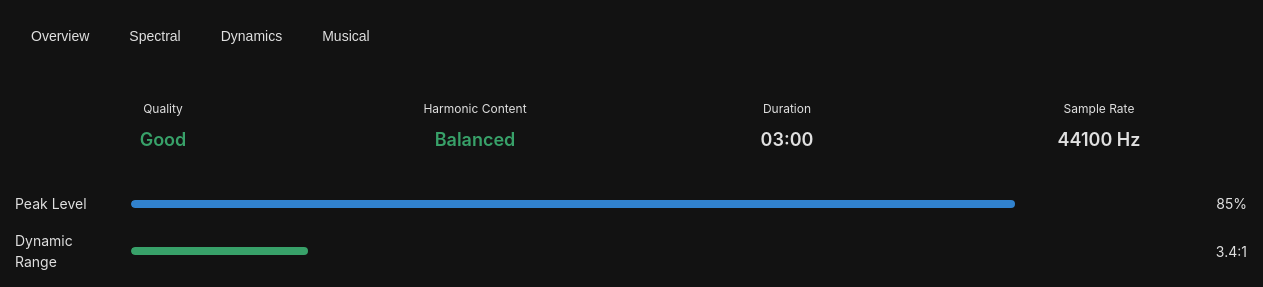
Test: AudioAnalysisDisplay Component › switches to dynamics tab when clicked
Click the button "Dynamics": (251, 36) [205,16,298,56]
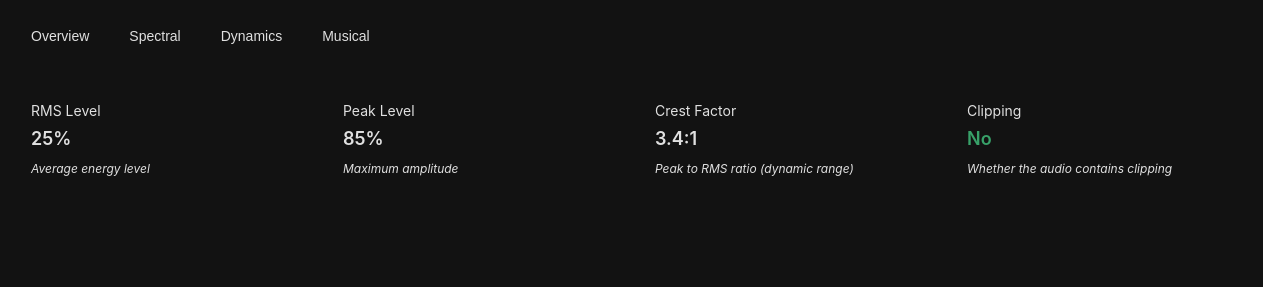
Expected: the text "RMS Level" is shown, [31,102,100,119]
Expected: the text "Crest Factor" is shown, [655,102,736,119]
Expected: the text "Clipping" is shown, [967,102,1021,119]
